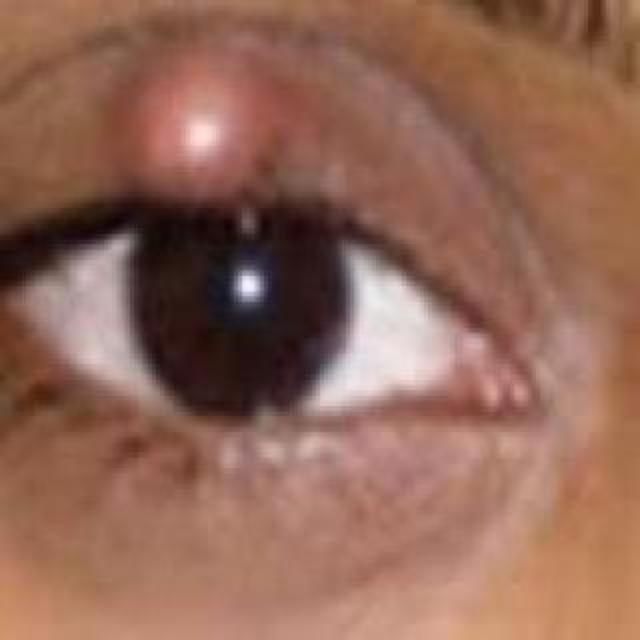Stye: (73, 32, 325, 265)
